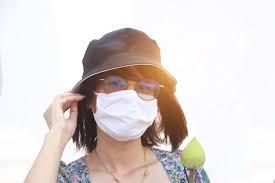cap: (68, 19, 192, 91)
mask: (92, 88, 159, 145)
sunglasses: (102, 75, 167, 107)
